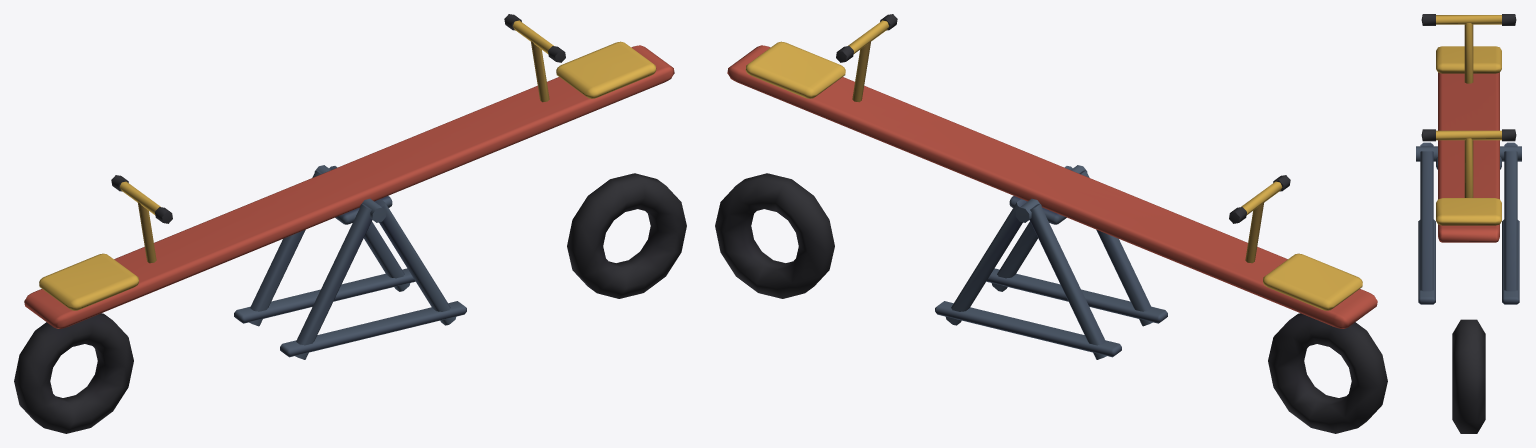
The model's file is SeeSaw.fbx.
3 renders of one model, left to right at view 1: azimuth 30°, elevation 25°; view 2: azimuth 150°, elevation 25°; view 3: azimuth 270°, elevation 25°, orthographic. The views are drawn at different scales.
Visible parts, largest first — view 1: SeeSaw; view 2: SeeSaw; view 3: SeeSaw.
Part boxes in pixels (box(x1,y1,x2,y2)): SeeSaw: box(14, 14, 686, 433); SeeSaw: box(715, 14, 1387, 433); SeeSaw: box(1416, 14, 1521, 433).
Size of the model in its own units: 3.17 by 1.29 by 0.48.
